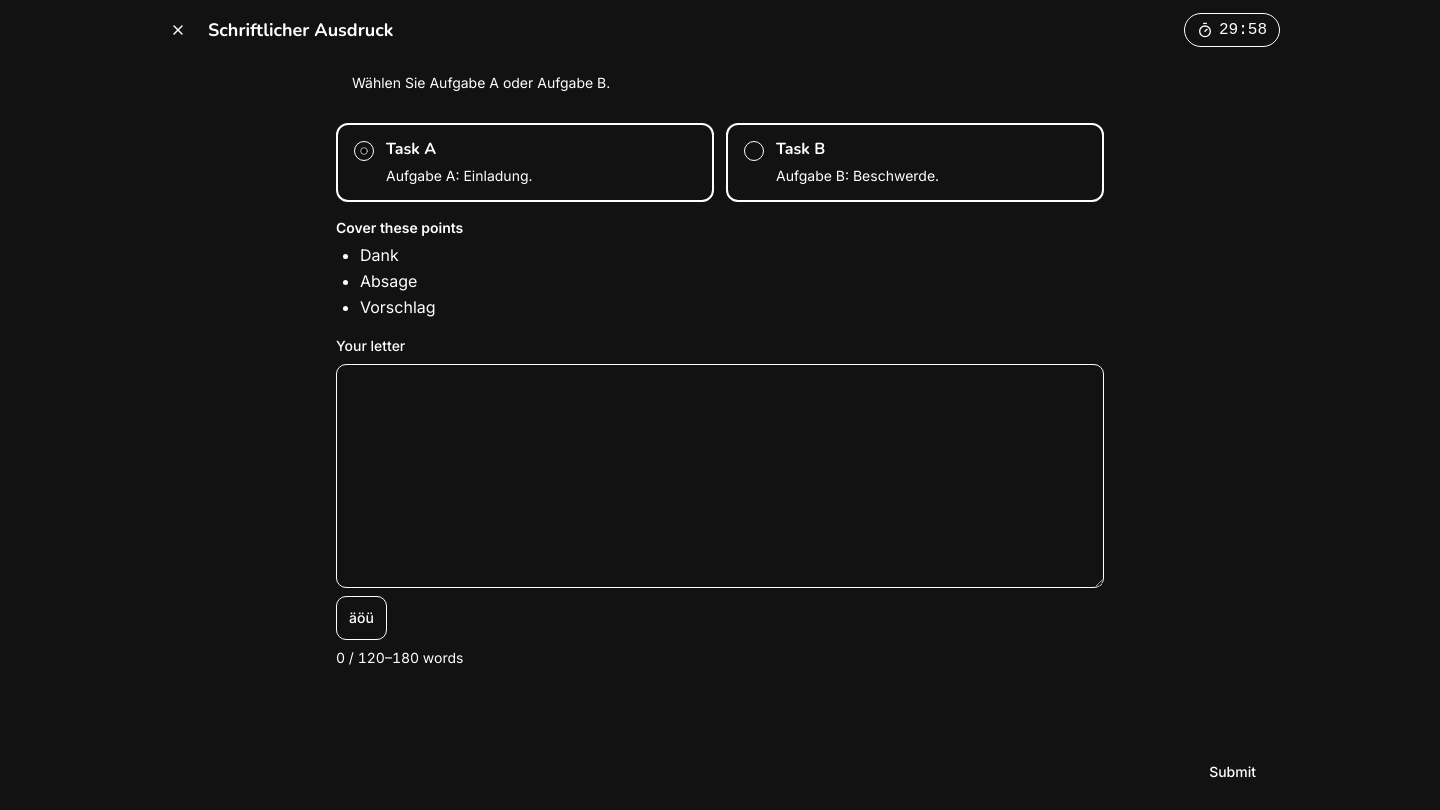
TeilRunner with a letter part › keeps the letter and allows a resubmit when grading fails
Type "Liebe Anna" into the text box labelled "Your letter" at (720, 476), box [336,364,1104,588]
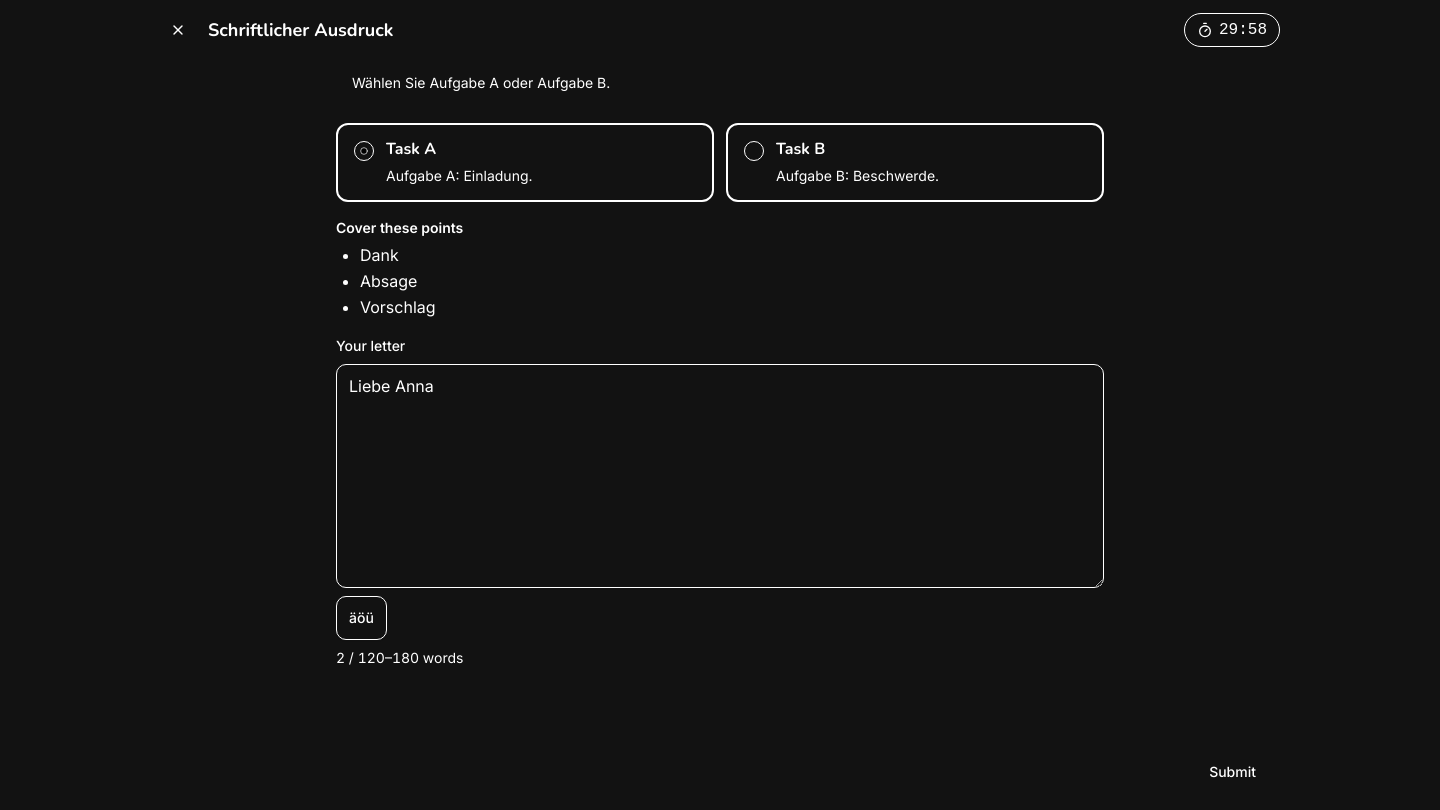
Click the button "Submit" at (1233, 772), box [1185,750,1280,794]
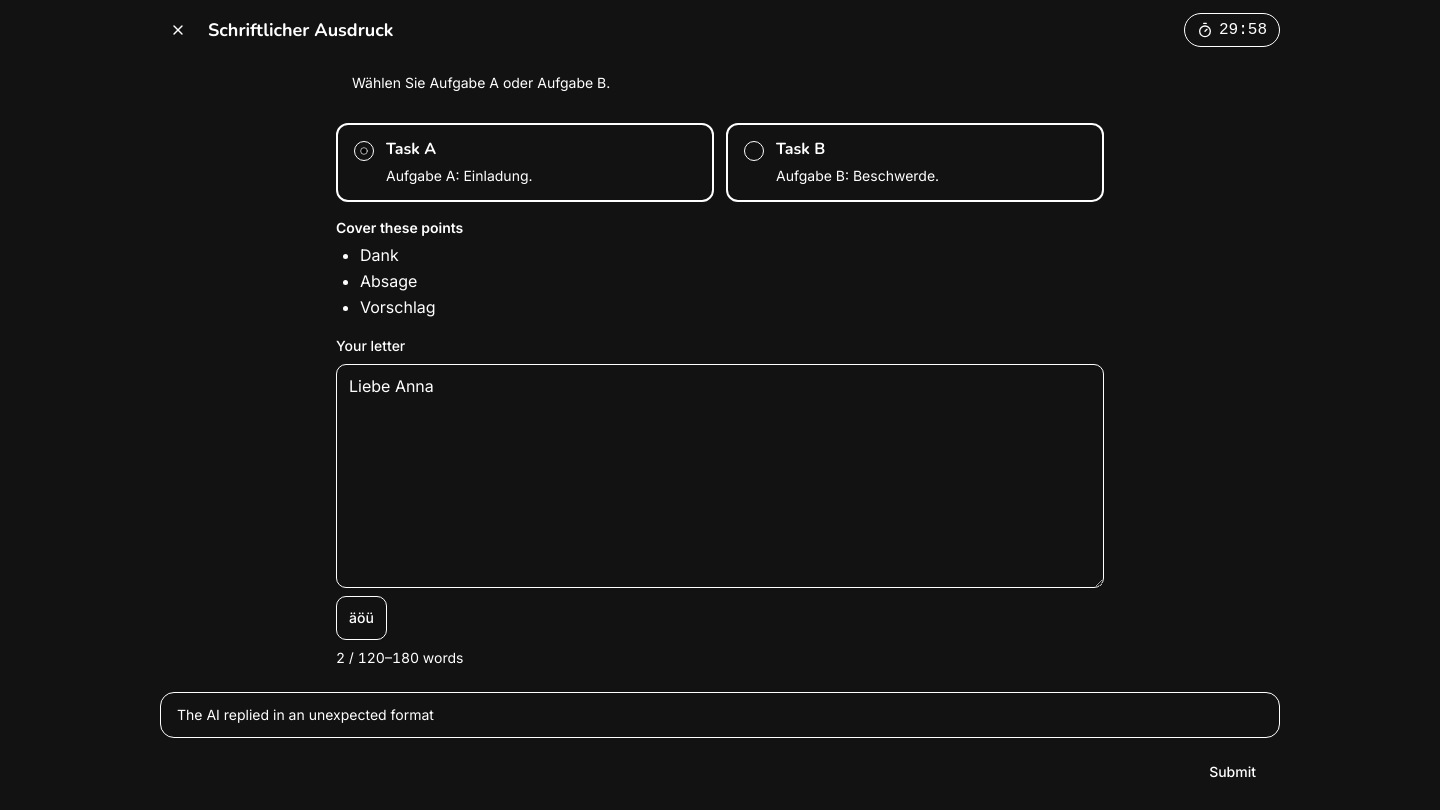
Result: the message "The AI replied in an unexpected format" is shown at [160,692,1280,738]
